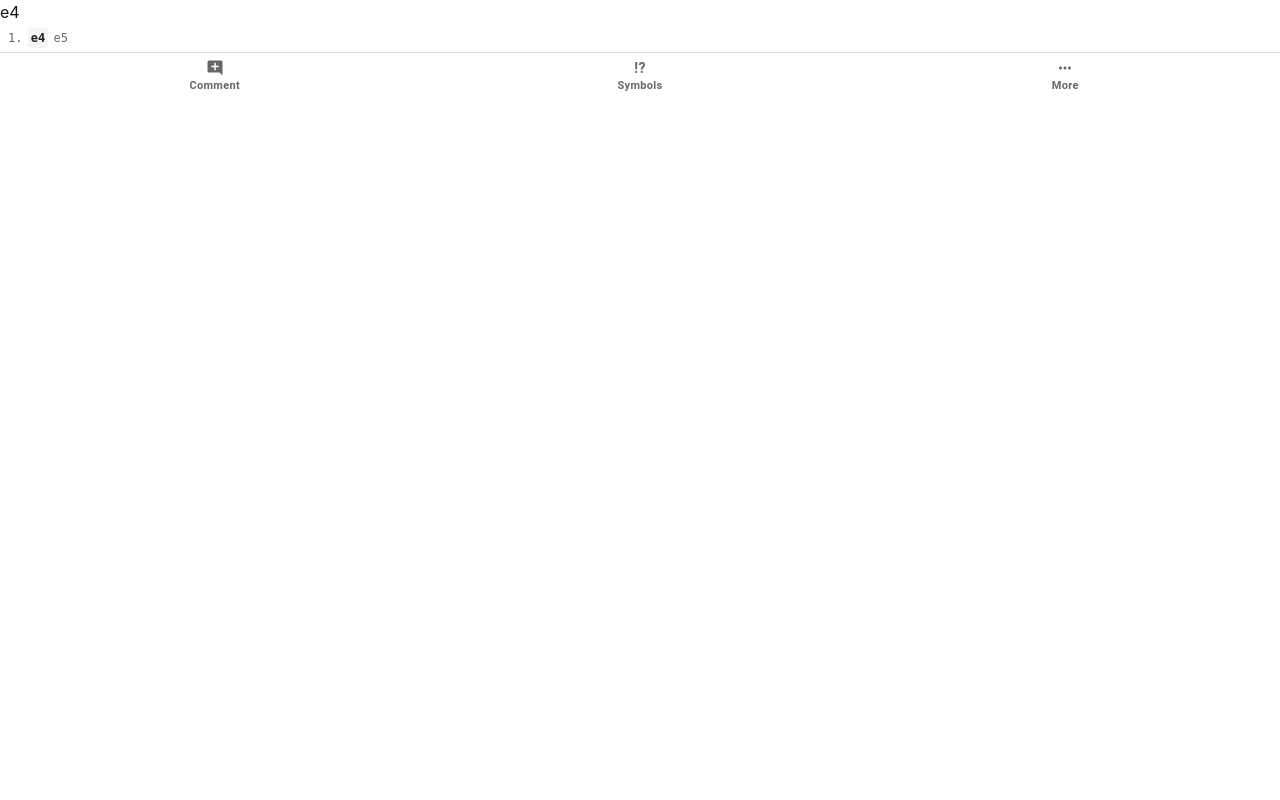
Test: Mobile action sheet › edits a comment in a sheet with Save / Cancel
Click the button "Comment" at (215, 76), box [4,55,425,96]
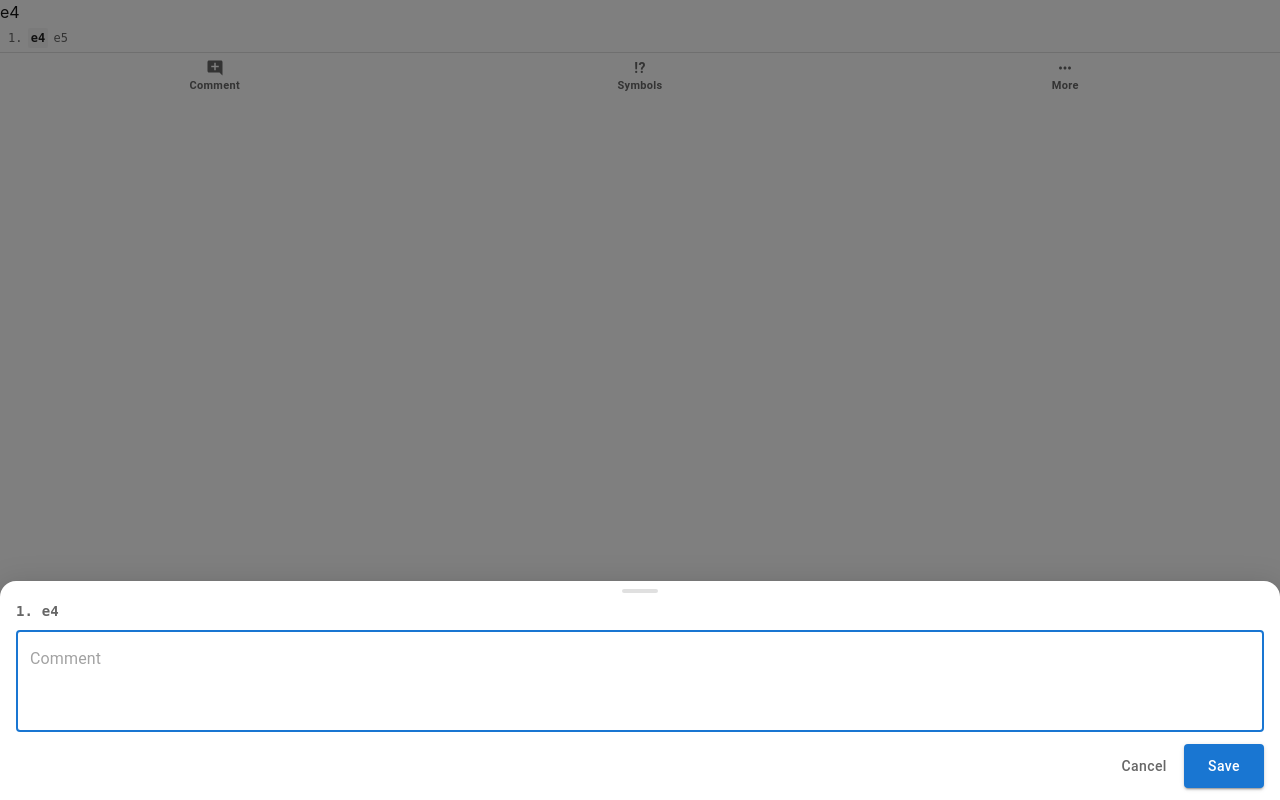
Type "king pawn" into the text box with test id "move-comment-sheet-input" at (640, 681), box [30,646,1250,716]
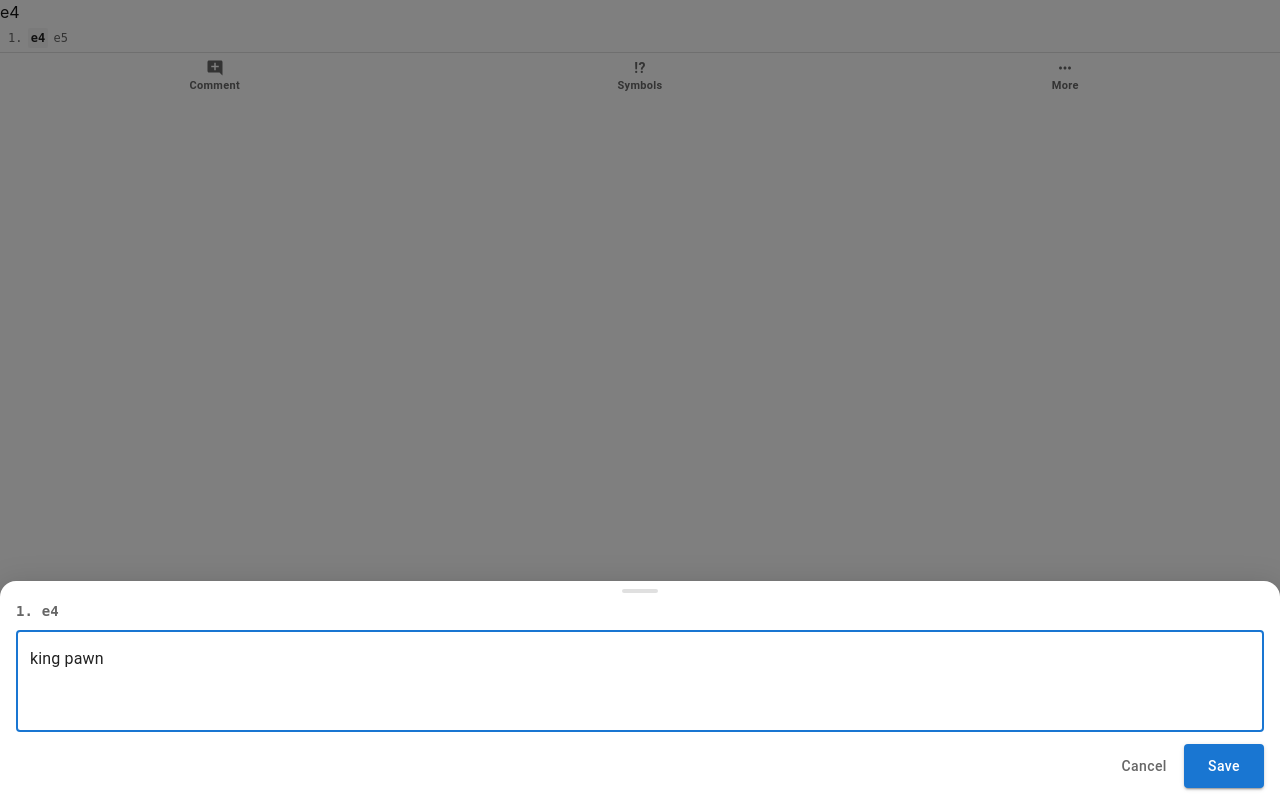
Click the button "Save" at (1224, 766), box [1184,744,1264,788]
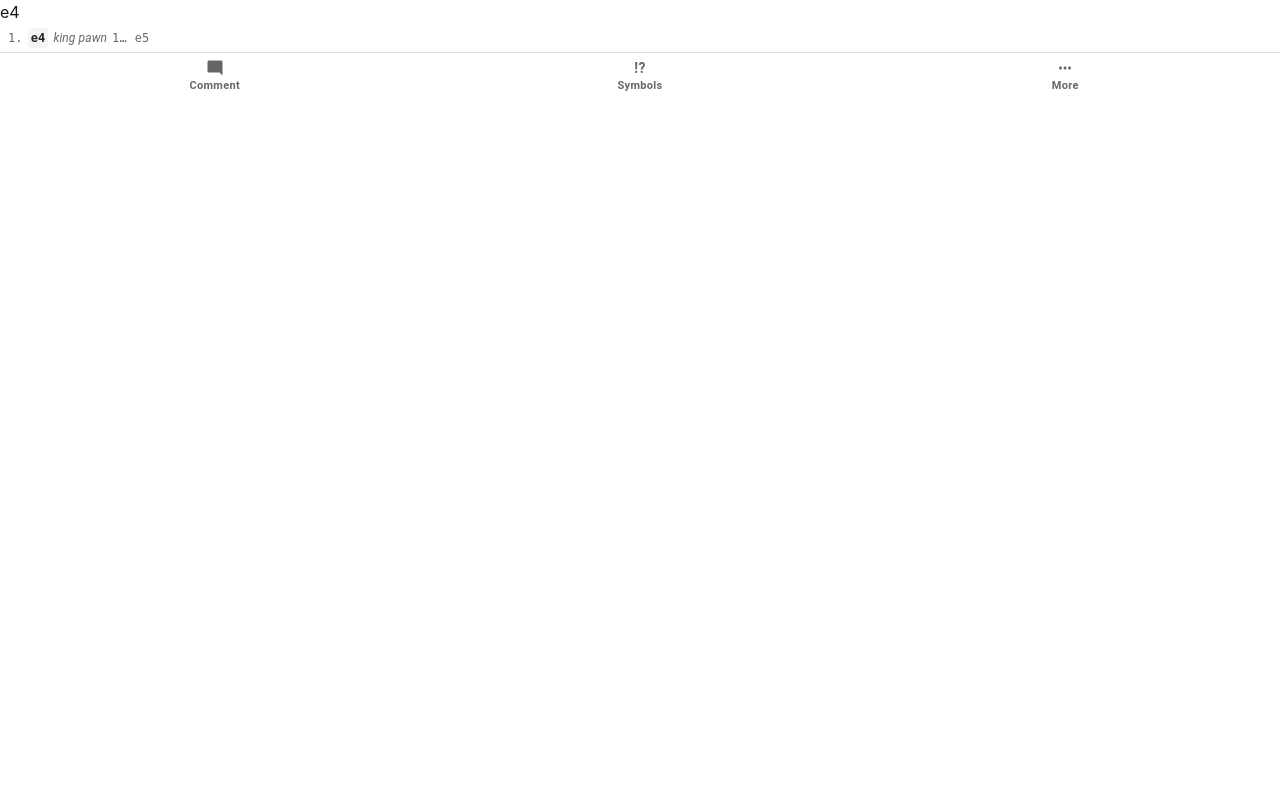
expect the text with test id "move-comment" reads "king pawn": met, box [53,31,107,45]
